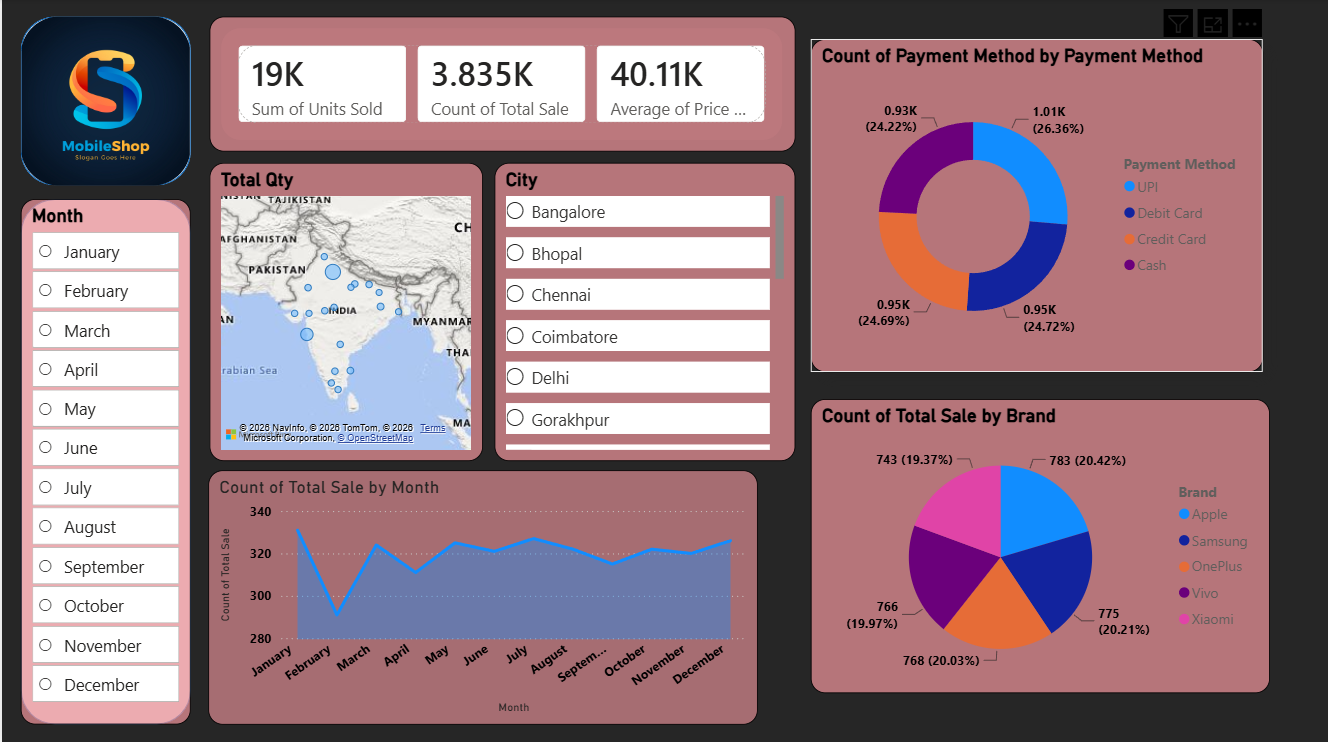

The page's visual inventory and layout, read from the dashboard file:
{"tool":"powerbi","page":{"name":"Page 1","canvas":[1280,720],"ordinal":0},"visuals":[{"type":"shape","box":[18.6,17.1,164.3,162.9],"z":0},{"type":"image","box":[18.6,17.1,164.3,162.9],"z":1000},{"type":"shape","box":[18.6,192.9,164.3,507.1],"z":2000},{"type":"advancedSlicerVisual","fields":{"Values":["Sheet1.date.Variation.Date Hierarchy.Month"]},"box":[18.6,192.9,164.3,507.1],"z":3000},{"type":"areaChart","fields":{"Category":["Sheet1.date.Variation.Date Hierarchy.Month"],"Y":["CountNonNull(Sheet1.Total Sale)"]},"box":[199.1,454.8,530,245.7],"z":4000},{"type":"pieChart","fields":{"Category":["Sheet1.Brand"],"Y":["CountNonNull(Sheet1.Total Sale)"]},"box":[780,385.7,442.9,284.3],"z":5000},{"type":"donutChart","fields":{"Category":["Sheet1.Payment Method"],"Y":["CountNonNull(Sheet1.Payment Method)"]},"box":[780,38.6,437.1,321.4],"z":6000},{"type":"map","title":"Total Qty ","fields":{"Category":["Sheet1.City"],"Size":["Sheet1.tq"]},"box":[200.3,158,264.2,288.3],"z":7000},{"type":"cardVisual","fields":{"Data":["Sum(Sheet1.Units Sold)","CountNonNull(Sheet1.Total Sale)","Avg(Sheet1.Price Per Unit)"]},"box":[200.3,16.9,565.8,130.3],"z":8000},{"type":"listSlicer","fields":{"Values":["Sheet1.City"]},"box":[475.3,158,290.8,288.3],"z":9000}]}

Visuals, with their boxes in screenshot pixels (x1, y1, x2, y2), scaled from the page's 1280x720 canvas onto the 1328x742 screenshot:
shape: <bbox>19, 18, 190, 185</bbox>
image: <bbox>19, 18, 190, 185</bbox>
shape: <bbox>19, 199, 190, 721</bbox>
advancedSlicerVisual - Sheet1.date.Variation.Date Hierarchy.Month: <bbox>19, 199, 190, 721</bbox>
areaChart - Sheet1.date.Variation.Date Hierarchy.Month x CountNonNull(Sheet1.Total Sale): <bbox>207, 469, 756, 722</bbox>
pieChart - Sheet1.Brand x CountNonNull(Sheet1.Total Sale): <bbox>809, 397, 1269, 690</bbox>
donutChart - Sheet1.Payment Method x CountNonNull(Sheet1.Payment Method): <bbox>809, 40, 1263, 371</bbox>
"Total Qty " map: <bbox>208, 163, 482, 460</bbox>
cardVisual - Sum(Sheet1.Units Sold) x CountNonNull(Sheet1.Total Sale): <bbox>208, 17, 795, 152</bbox>
listSlicer - Sheet1.City: <bbox>493, 163, 795, 460</bbox>
